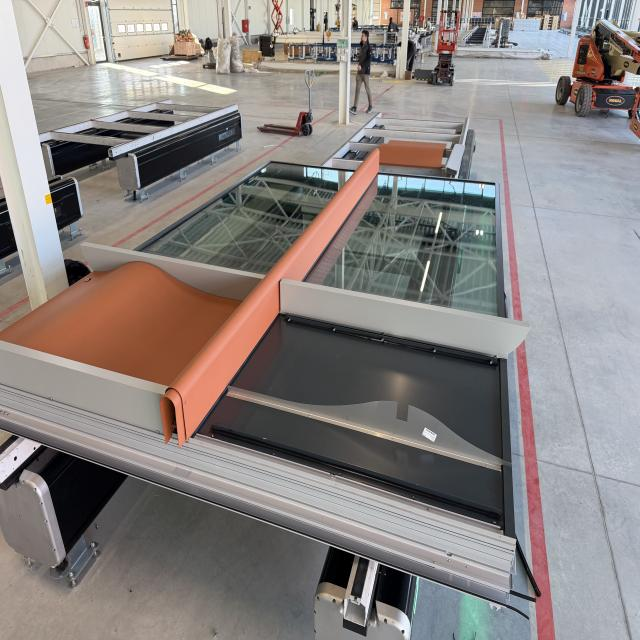lim_nedostaje: (221, 384, 521, 473)
vijak_nedostaje: (496, 534, 502, 540)
